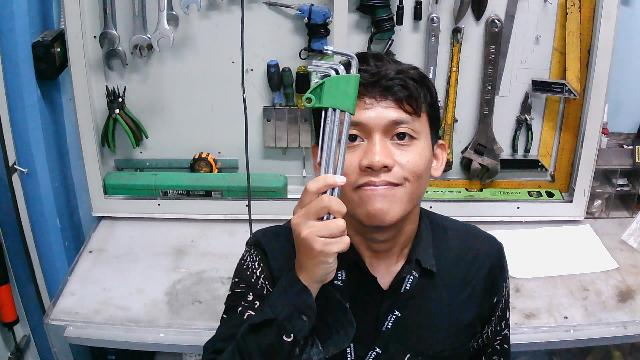kunci_l_bintang: (299, 41, 361, 242)
